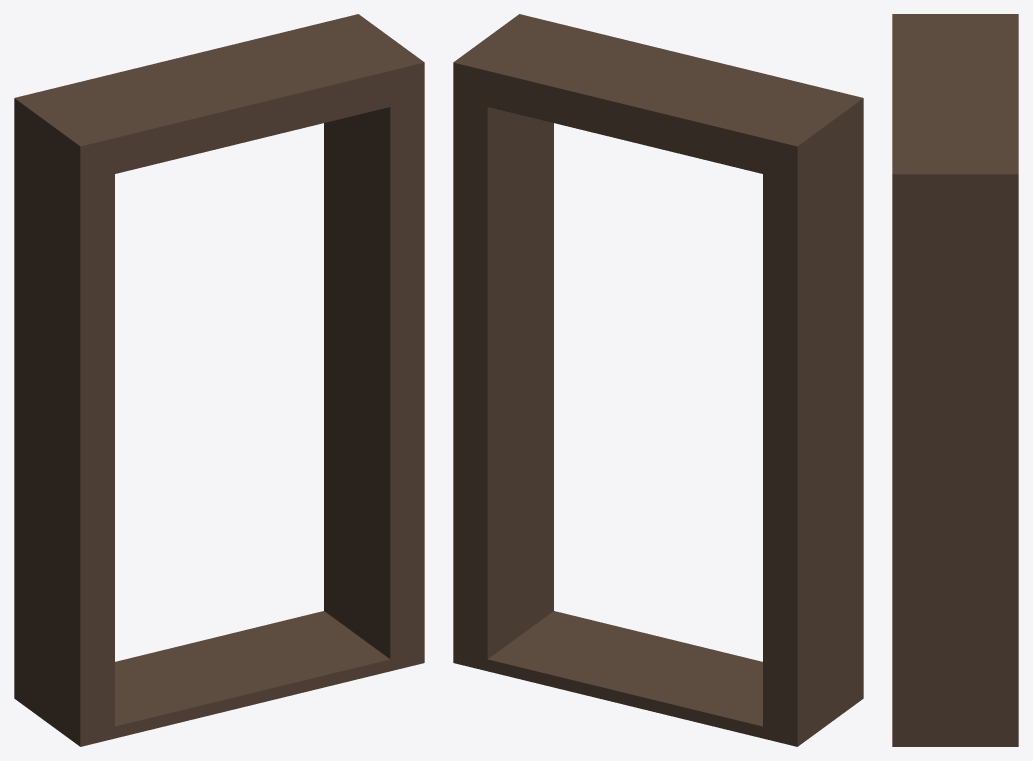
The model's file is Doorway.fbx.
3 views of the same model, side by side, from view 1: azimuth 30°, elevation 25°; view 2: azimuth 150°, elevation 25°; view 3: azimuth 270°, elevation 25° (orthographic). The views are drawn at different scales.
Visible parts, largest first — view 1: Doorway; view 2: Doorway; view 3: Doorway.
Boxes of the visible parts, x1,y1,x2,y2 form: Doorway: (14, 14, 424, 746); Doorway: (453, 14, 863, 746); Doorway: (892, 14, 1018, 746).
Bounding box in the file's own units: 150 × 250 × 50.
1 material, 1 textured.
